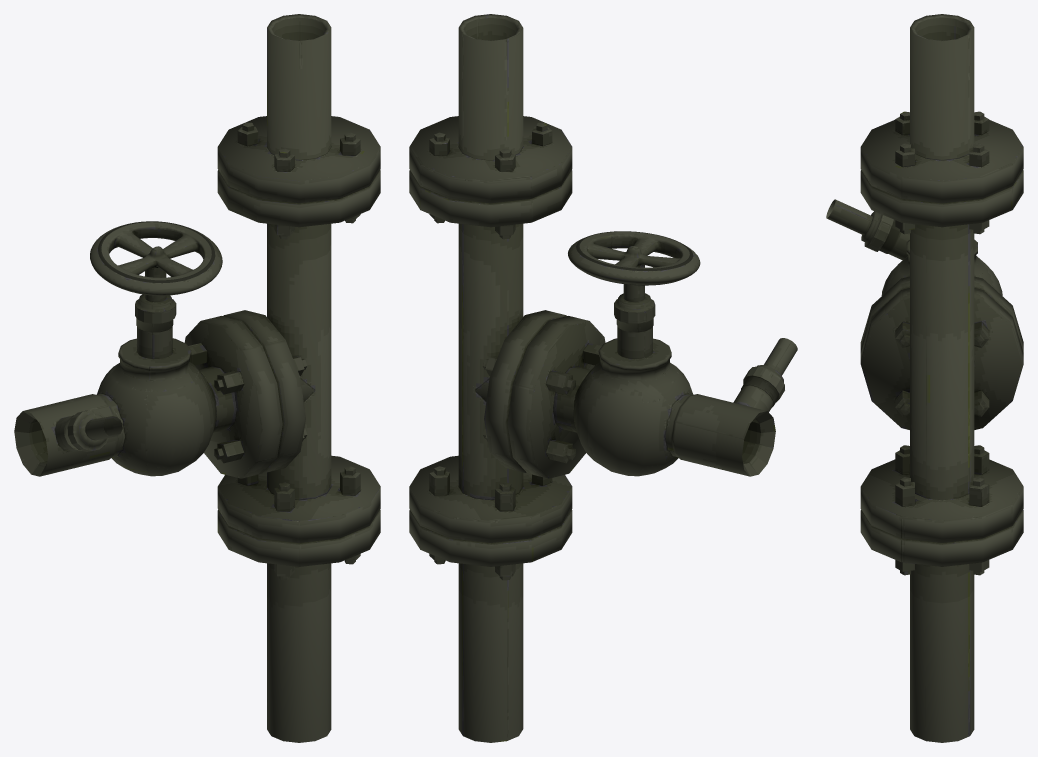
3 renders of one model, left to right at view 1: azimuth 30°, elevation 25°; view 2: azimuth 150°, elevation 25°; view 3: azimuth 270°, elevation 25°, orthographic.
Visible parts, largest first — view 1: Cylinder.014, Cylinder.000; view 2: Cylinder.014, Cylinder.000; view 3: Cylinder.014.
Boxes of the visible parts, x1,y1,x2,y2 form: Cylinder.014: [14, 14, 380, 742]; Cylinder.000: [90, 221, 222, 295]; Cylinder.014: [409, 14, 797, 742]; Cylinder.000: [568, 231, 700, 285]; Cylinder.014: [826, 14, 1023, 742].
Bounding box in the file's own units: 1.26 × 2.49 × 0.6349.
1 material, 1 textured.
